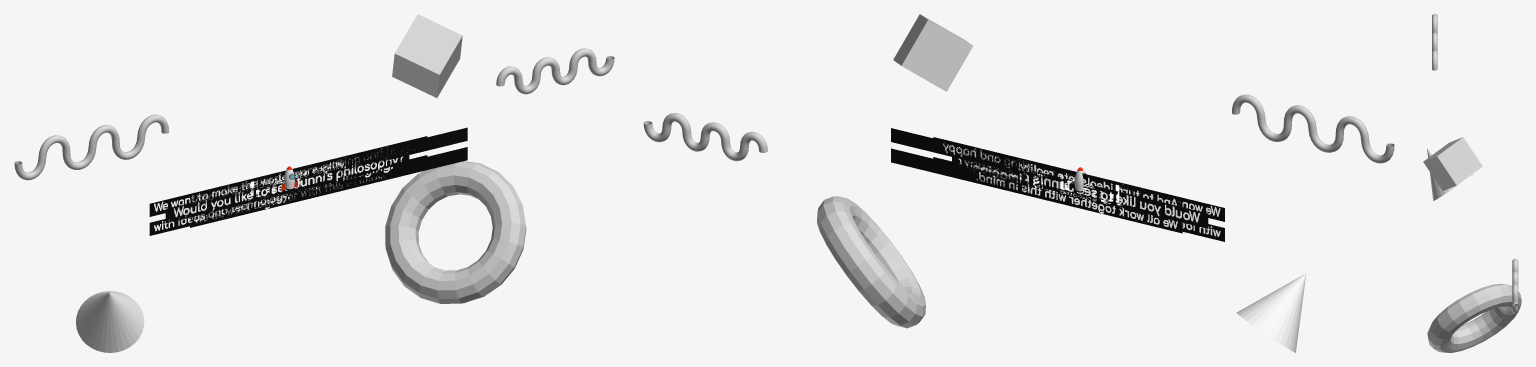
The model's file is common.glb.
The picture shows the model from 3 angles, left to right: view 1: azimuth 30°, elevation 25°; view 2: azimuth 150°, elevation 25°; view 3: azimuth 270°, elevation 25°; orthographic projection. The views are drawn at different scales.
Visible parts, largest first — view 1: Torus, Cube, Cone, Plane.005, Plane.003, Plane.002, Plane.004, Plane.001, Wave_Left, Wave_Right, Imaging; view 2: Torus, Plane.004, Cube, Plane.005, Plane.003, Cone, Wave_Left, Plane.001, Wave_Right, Plane.002, Imaging; view 3: Torus, Cube, Wave_Right, Wave_Left, Cone.
Part boxes in pixels (x1,y1,x2,y2): Torus: [385, 161, 526, 303]; Cube: [392, 14, 462, 97]; Cone: [76, 291, 144, 352]; Plane.005: [165, 154, 409, 223]; Plane.003: [190, 127, 467, 207]; Plane.002: [149, 155, 427, 235]; Plane.004: [190, 147, 467, 227]; Plane.001: [149, 136, 427, 216]; Wave_Left: [14, 114, 168, 180]; Wave_Right: [496, 48, 614, 94]; Imaging: [339, 163, 398, 185]; Torus: [817, 196, 925, 328]; Plane.004: [891, 148, 1182, 233]; Cube: [893, 14, 972, 91]; Plane.005: [952, 157, 1208, 228]; Plane.003: [891, 128, 1182, 206]; Cone: [1236, 273, 1306, 352]; Wave_Left: [1232, 94, 1394, 163]; Plane.001: [933, 137, 1224, 221]; Wave_Right: [643, 113, 767, 161]; Plane.002: [933, 157, 1224, 241]; Imaging: [964, 158, 1025, 188]; Torus: [1427, 283, 1521, 352]; Cube: [1423, 137, 1482, 190]; Wave_Right: [1512, 258, 1518, 313]; Wave_Left: [1432, 14, 1437, 70]; Cone: [1427, 148, 1472, 200].
Size of what is drawn, in the model's own units: 8.72 by 3.71 by 1.62.
5 materials, 2 textured.
